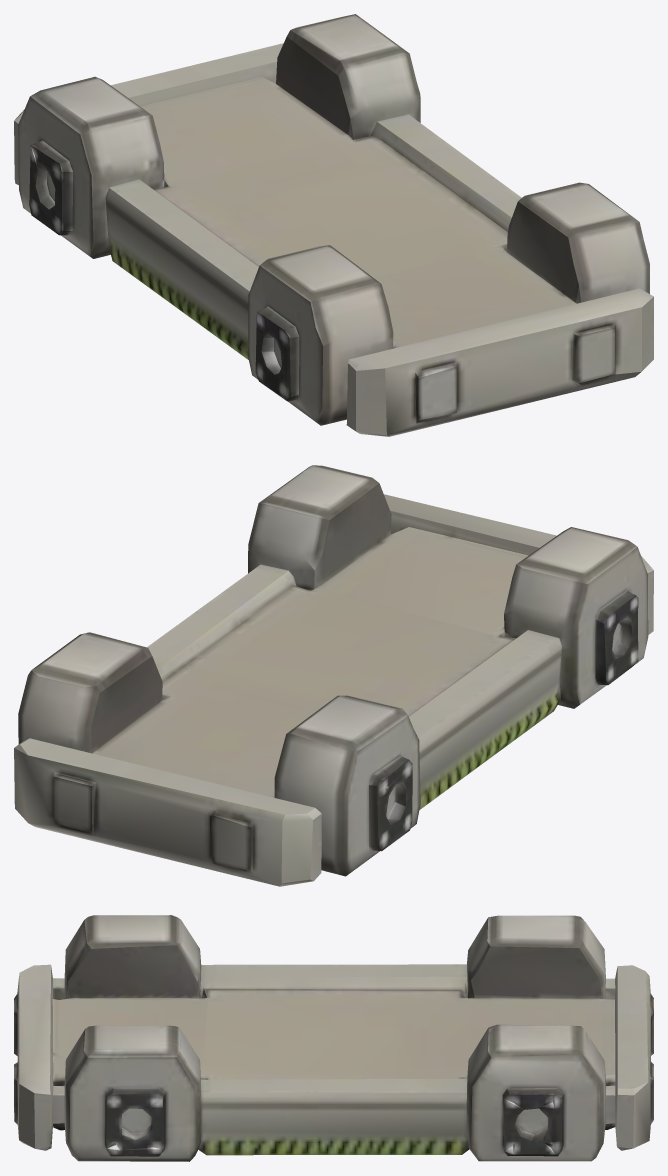
The model's file is scout-chassis.glb.
3 renders of one model, top to bottom at view 1: azimuth 30°, elevation 25°; view 2: azimuth 150°, elevation 25°; view 3: azimuth 270°, elevation 25°, orthographic. The views are drawn at different scales.
Parts seen in each view (by area): view 1: low; view 2: low; view 3: low.
Part boxes in pixels (bbox=[...]): low: bbox=[14, 14, 653, 436]; low: bbox=[14, 465, 653, 886]; low: bbox=[14, 915, 653, 1161].
Bounding box in the file's own units: 1.69 × 0.5837 × 3.
1 material, 1 textured.
